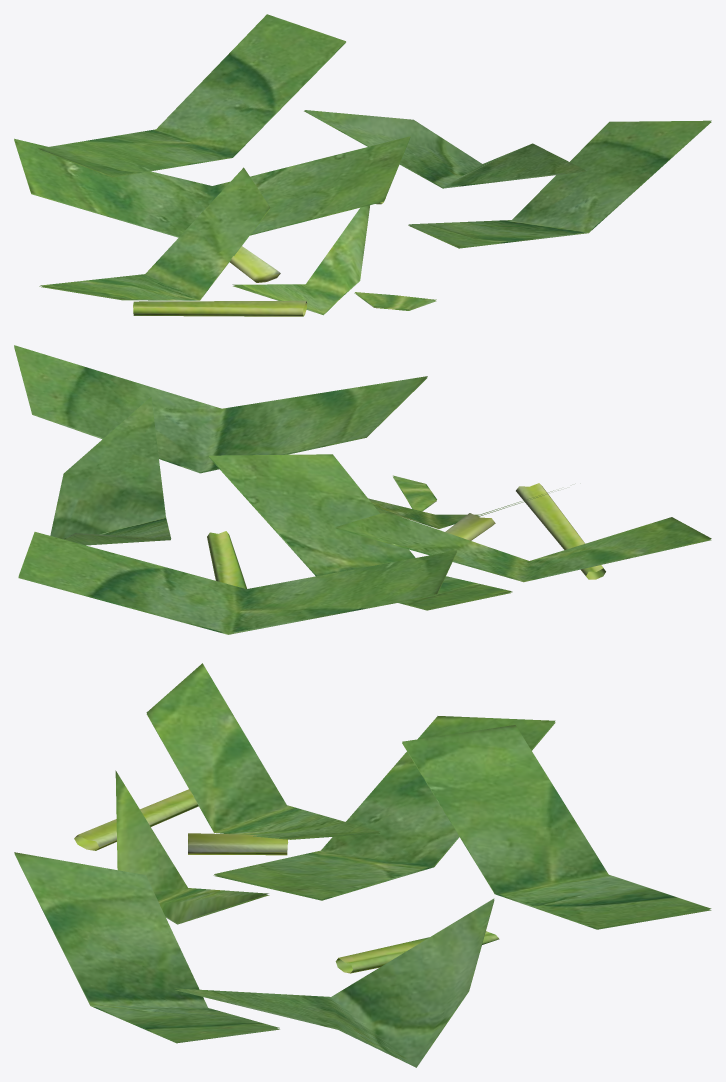
File: Potongan Bayam.fbx
3 renders of one model, top to bottom at view 1: azimuth 30°, elevation 25°; view 2: azimuth 150°, elevation 25°; view 3: azimuth 270°, elevation 25°, orthographic. The views are drawn at different scales.
Visible parts, largest first — view 1: Potongan Bayam; view 2: Potongan Bayam; view 3: Potongan Bayam.
Boxes of the visible parts, left/top/right/bottom form: Potongan Bayam: left=14, top=14, right=711, bottom=316; Potongan Bayam: left=14, top=345, right=711, bottom=634; Potongan Bayam: left=14, top=663, right=711, bottom=1067.
Size of the model in its own units: 27.15 by 3.34 by 20.41.
Materials: 1 (1 with a texture image).
